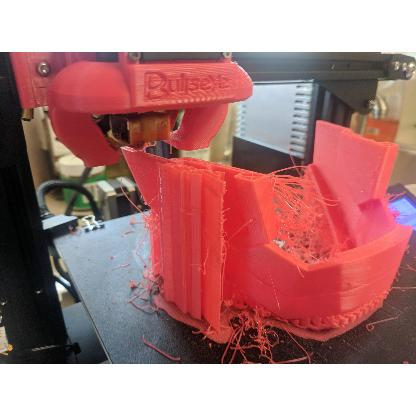fail: (272, 164, 326, 256), (218, 301, 296, 363)
